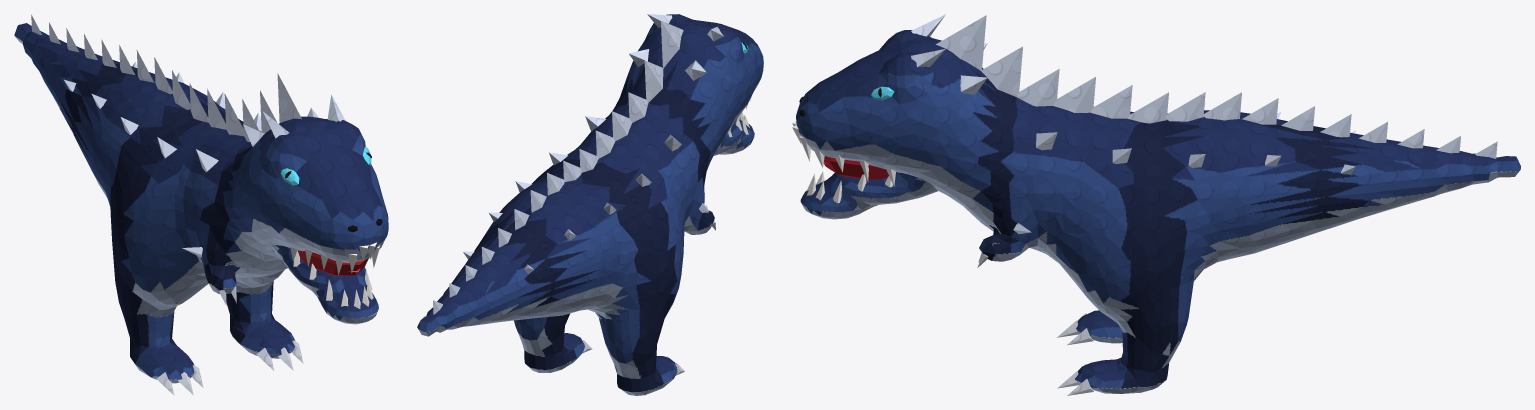
Rendered from trex_bleu.glb.
3 views of the same model, side by side, from view 1: azimuth 30°, elevation 25°; view 2: azimuth 150°, elevation 25°; view 3: azimuth 270°, elevation 25° (orthographic). The views are drawn at different scales.
Visible parts, largest first — view 1: TRex; view 2: TRex; view 3: TRex.
Part boxes in pixels (x1,y1,x2,y2): TRex: (14,14,388,395); TRex: (417,14,763,395); TRex: (792,14,1520,395).
Bounding box in the file's own units: 3.2 × 6.1 × 11.55.
1 material, 1 textured.
